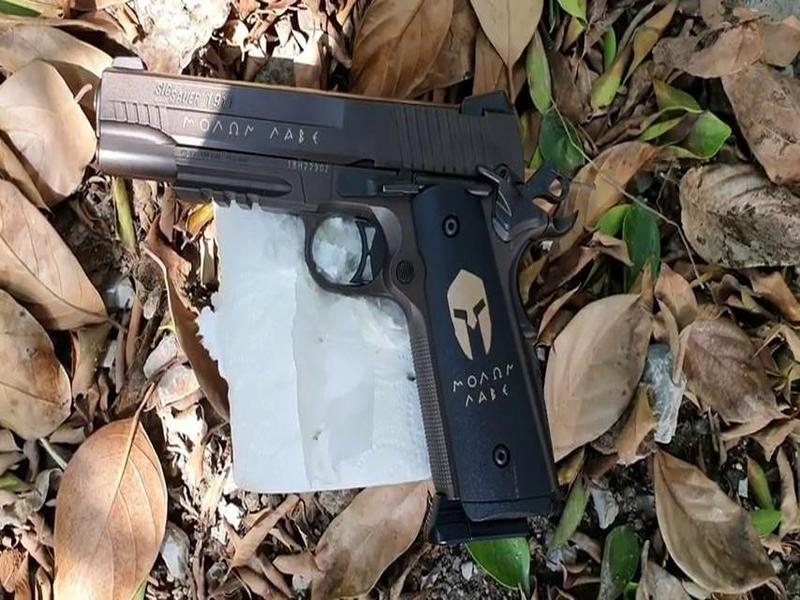Pistola: (64, 64, 579, 546)
